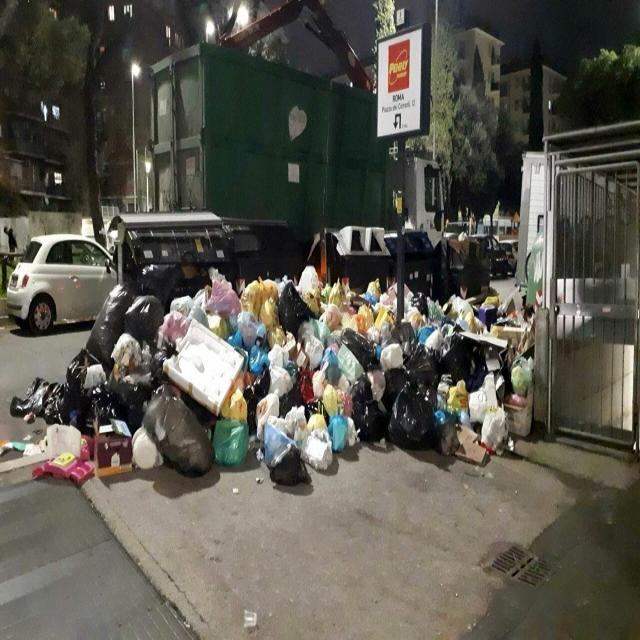garbage: (14, 264, 546, 478)
